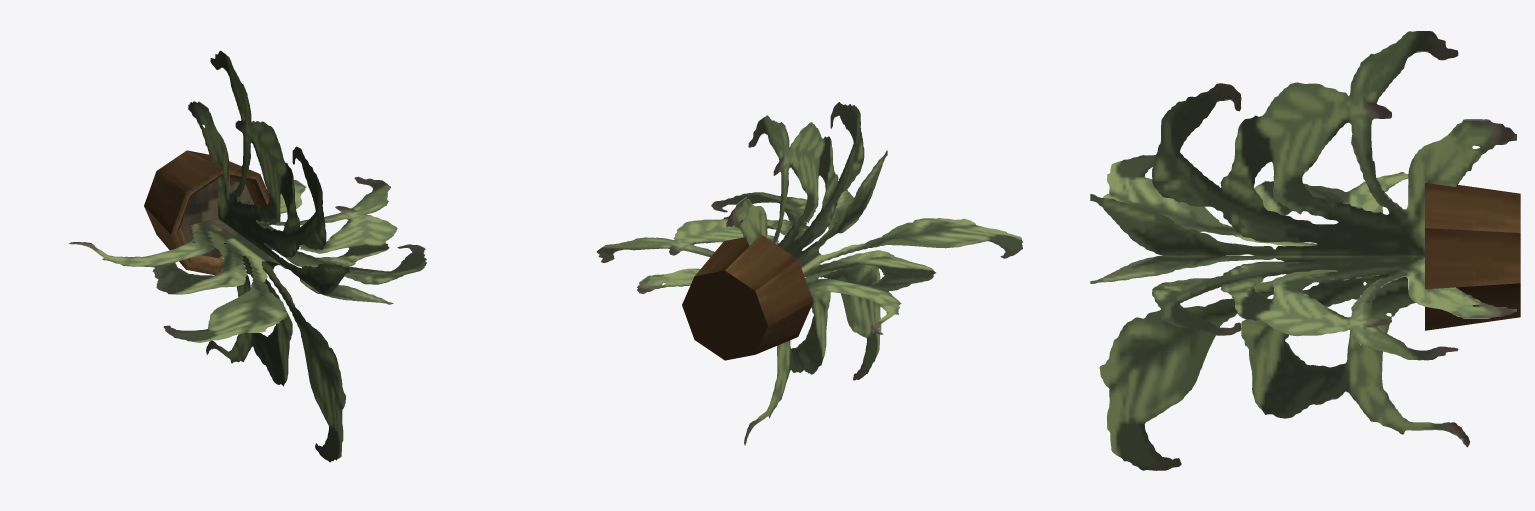
The model's file is pz_plant_native_19.obj.
3 renders of one model, left to right at view 1: azimuth 30°, elevation 25°; view 2: azimuth 150°, elevation 25°; view 3: azimuth 270°, elevation 25°, orthographic. The views are drawn at different scales.
Visible parts, largest first — view 1: foliage_PNG_crossed_cards, pot_soil_and_rim; view 2: foliage_PNG_crossed_cards, pot_soil_and_rim; view 3: foliage_PNG_crossed_cards, pot_soil_and_rim.
Boxes of the visible parts, bbox=[...] form: foliage_PNG_crossed_cards: bbox=[69, 50, 426, 462]; pot_soil_and_rim: bbox=[144, 150, 269, 275]; foliage_PNG_crossed_cards: bbox=[596, 102, 1022, 445]; pot_soil_and_rim: bbox=[682, 234, 813, 360]; foliage_PNG_crossed_cards: bbox=[1090, 31, 1516, 470]; pot_soil_and_rim: bbox=[1425, 183, 1520, 330].
Size of the model in its own units: 1.84 by 1.84 by 1.49.
1 material, 1 textured.
